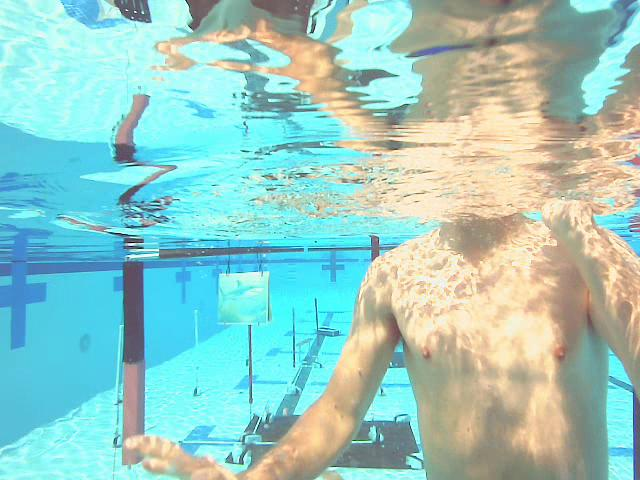black_poster: (245, 323, 257, 402), (289, 308, 301, 372), (311, 295, 323, 340)
divider: (369, 233, 381, 264)
left_gate_poster: (119, 260, 148, 467)
shark: (218, 270, 271, 328)
white_poster: (111, 324, 126, 446), (190, 306, 203, 398)
